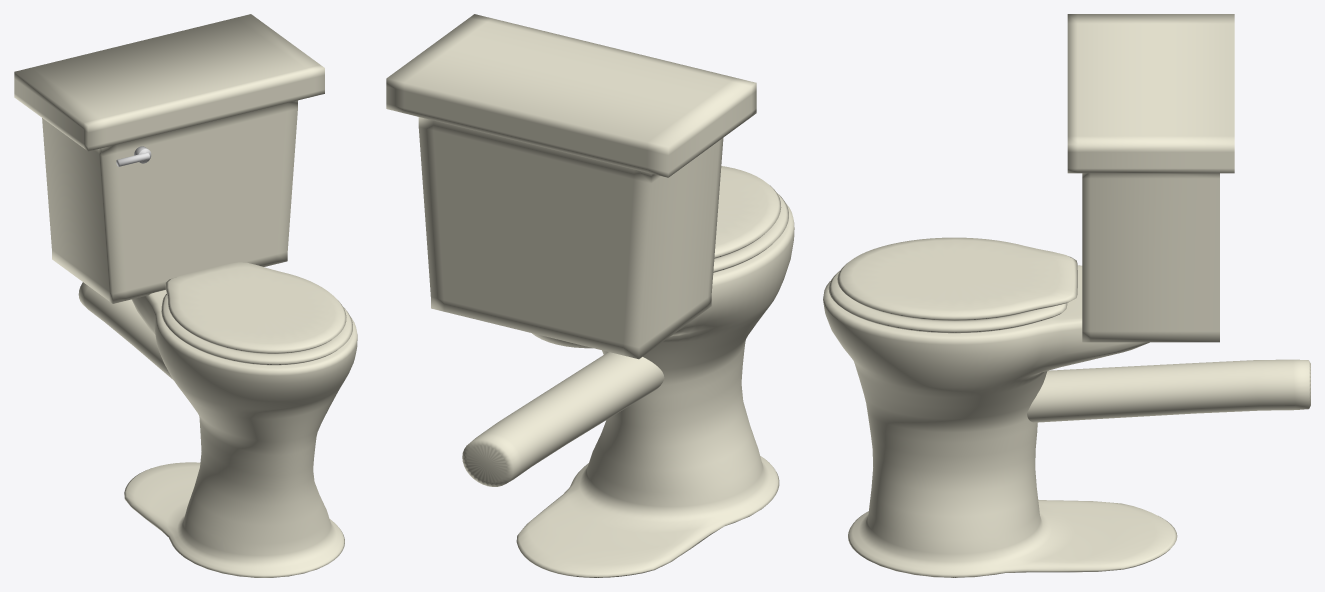
File: Toilet.fbx
3 views of the same model, side by side, from view 1: azimuth 30°, elevation 25°; view 2: azimuth 150°, elevation 25°; view 3: azimuth 270°, elevation 25° (orthographic). The views are drawn at different scales.
Visible parts, largest first — view 1: Cube, Cylinder, Cylinder.003; view 2: Cube, Cylinder, Cylinder.003; view 3: Cylinder, Cube, Cylinder.003.
Part boxes in pixels (x1,y1,x2,y2): Cube: (14,14,324,303); Cylinder: (78,282,357,577); Cylinder.003: (165,262,346,353); Cube: (386,14,756,359); Cylinder: (462,193,794,577); Cylinder.003: (714,166,781,258); Cylinder: (823,265,1310,577); Cube: (1067,14,1234,342); Cylinder.003: (837,237,1077,320).
Bounding box in the file's own units: 143 × 235 × 226.
